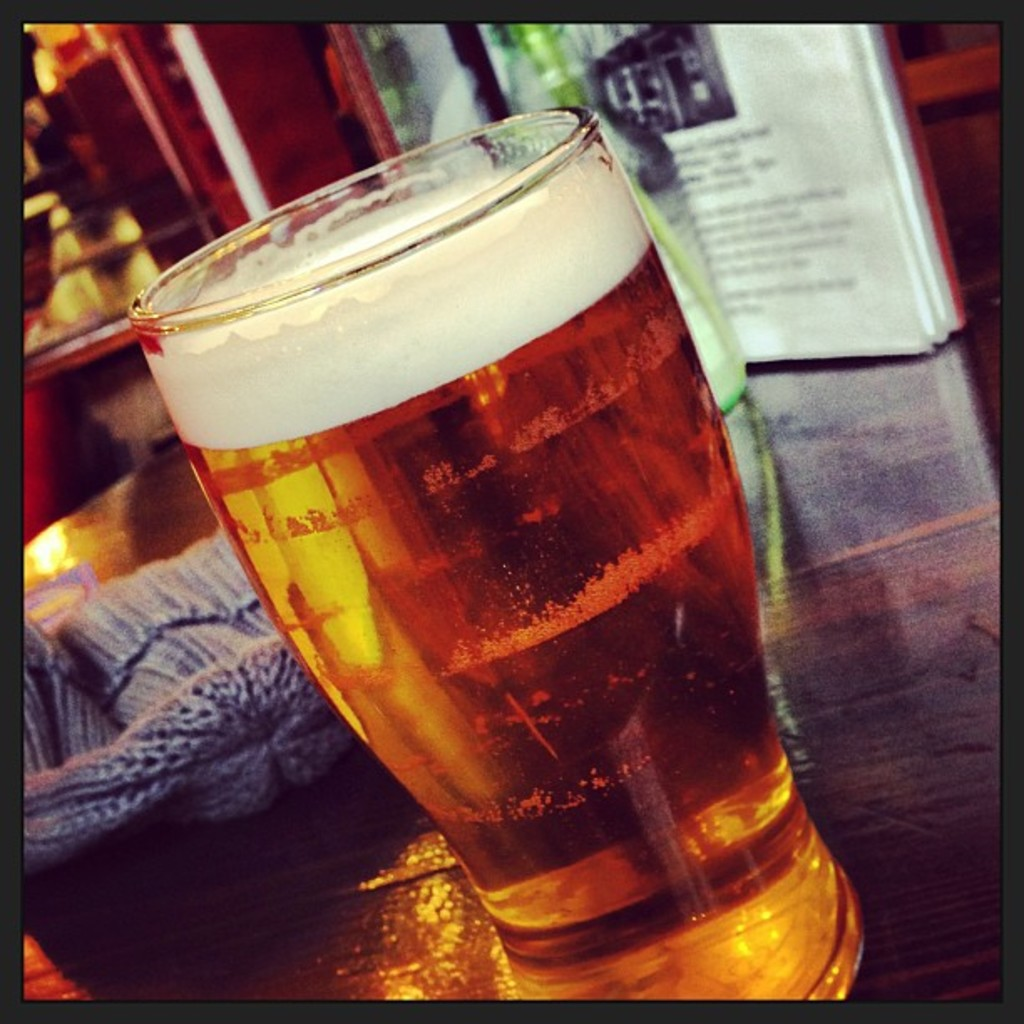Beer: (148, 133, 865, 1008)
